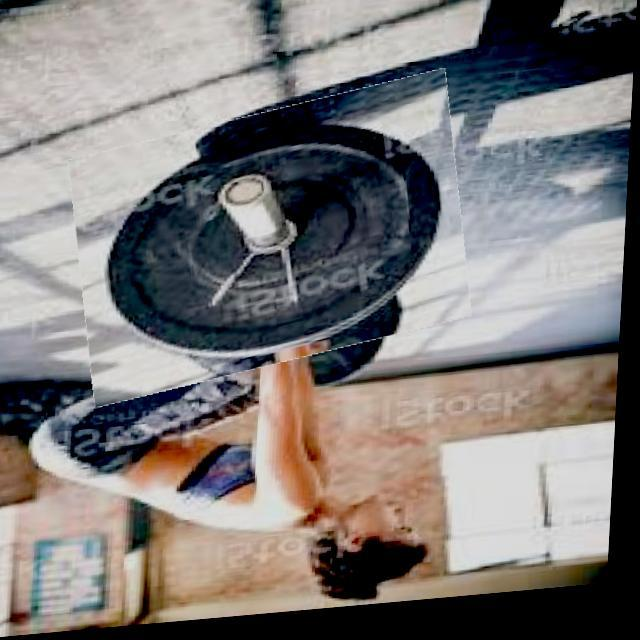barbell: (71, 89, 478, 399)
